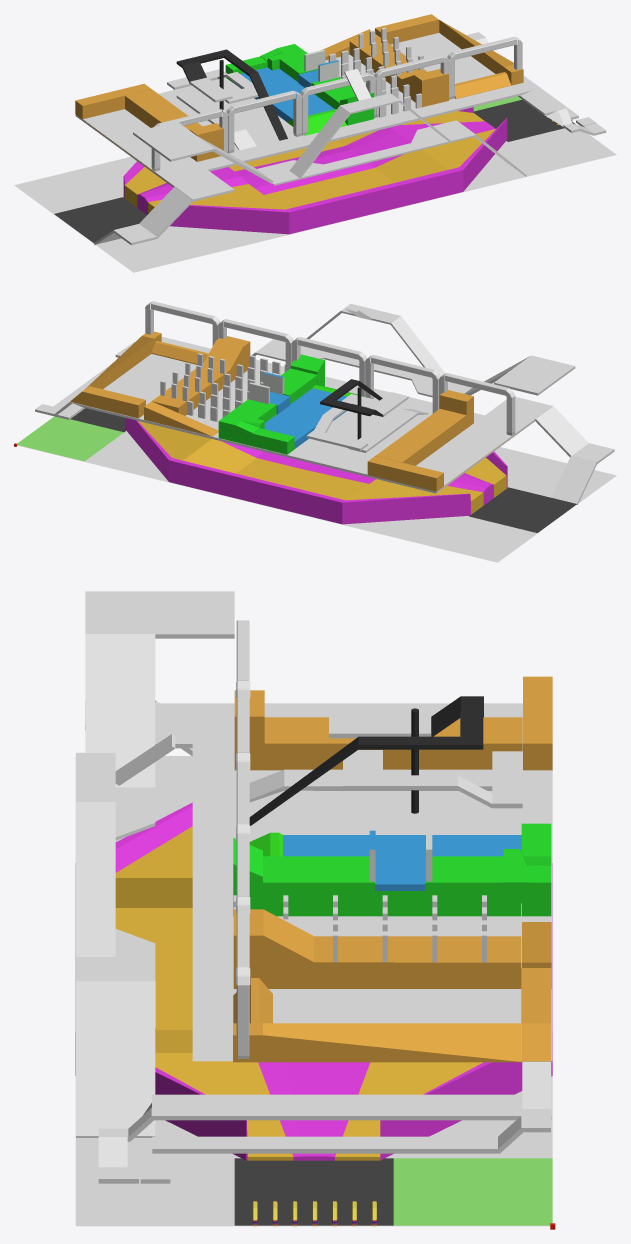
File: floor.glb
3 views of the same model, one above another, from view 1: azimuth 30°, elevation 25°; view 2: azimuth 150°, elevation 25°; view 3: azimuth 270°, elevation 25° (orthographic). The views are drawn at different scales.
Parts seen in each view (by area): view 1: Plane, course, game_floor, spectator_ramp, c3, arches, c2, player_ramp, c1, c5, c4, Plane.002 (+6 smaller); view 2: Plane, game_floor, course, c3, arches, c1, player_ramp, c2, c4, spectator_ramp, c5, Plane.002 (+6 smaller); view 3: game_floor, Plane, spectator_ramp, c3, front_ramp, course, c4, c5, c2, c1, Plane.001, Plane.003 (+6 smaller).
Part boxes in pixels (x1,y1,x2,y2): Plane: (123,107,507,234); course: (14,128,616,272); game_floor: (75,33,533,178); spectator_ramp: (257,68,526,185); c3: (225,44,374,135); arches: (151,37,522,171); c2: (167,49,287,150); player_ramp: (94,162,234,245); c1: (75,83,223,171); c5: (375,14,523,98); c4: (321,29,448,107); Plane.002: (54,197,146,242); Plane: (125,418,507,524); game_floor: (70,336,526,493); course: (17,431,616,562); c3: (218,354,362,454); arches: (145,301,515,435); c1: (367,390,514,491); player_ramp: (476,397,614,504); c2: (306,379,428,452); c4: (144,336,250,436); spectator_ramp: (252,303,472,397); c5: (70,331,208,418); Plane.002: (469,487,576,532); game_floor: (192,703,552,1061); Plane: (75,802,552,1160); spectator_ramp: (76,734,175,1137); c3: (233,823,551,916); front_ramp: (98,1061,551,1183); course: (75,756,552,1226); c4: (233,909,551,988); c5: (233,968,551,1062); c2: (249,696,522,825); c1: (234,676,552,770); Plane.001: (393,1158,552,1225); Plane.003: (234,1158,393,1225).
Size of what is drawn, in the model's own units: 112 by 28.15 by 48.25.
